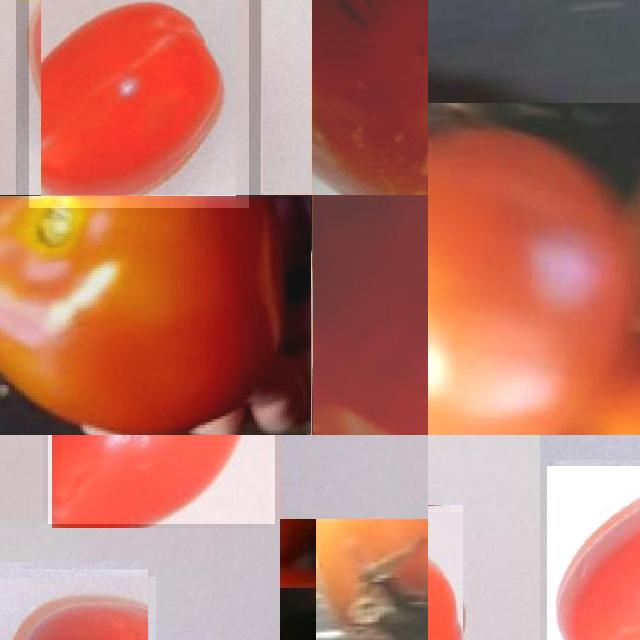Fresh Tomato: (0, 195, 312, 435), (428, 103, 640, 435), (28, 0, 249, 207), (47, 435, 275, 523), (547, 466, 640, 640), (316, 519, 428, 640), (0, 569, 148, 640)
Rotten Tomato: (313, 195, 428, 435), (312, 0, 428, 195)
